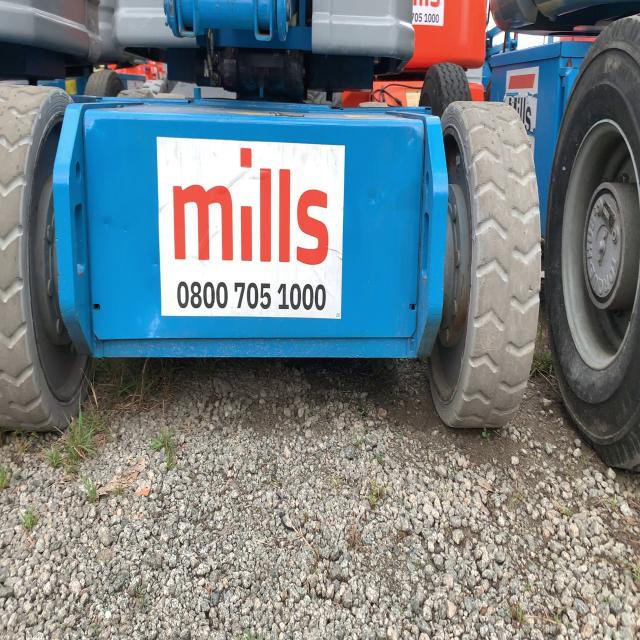Adesivos: (154, 132, 346, 326)
